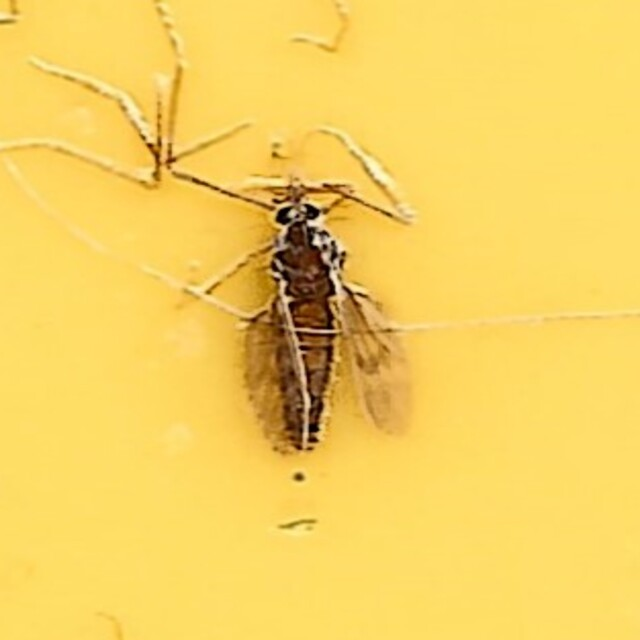Nematocera: (204, 174, 436, 466)
